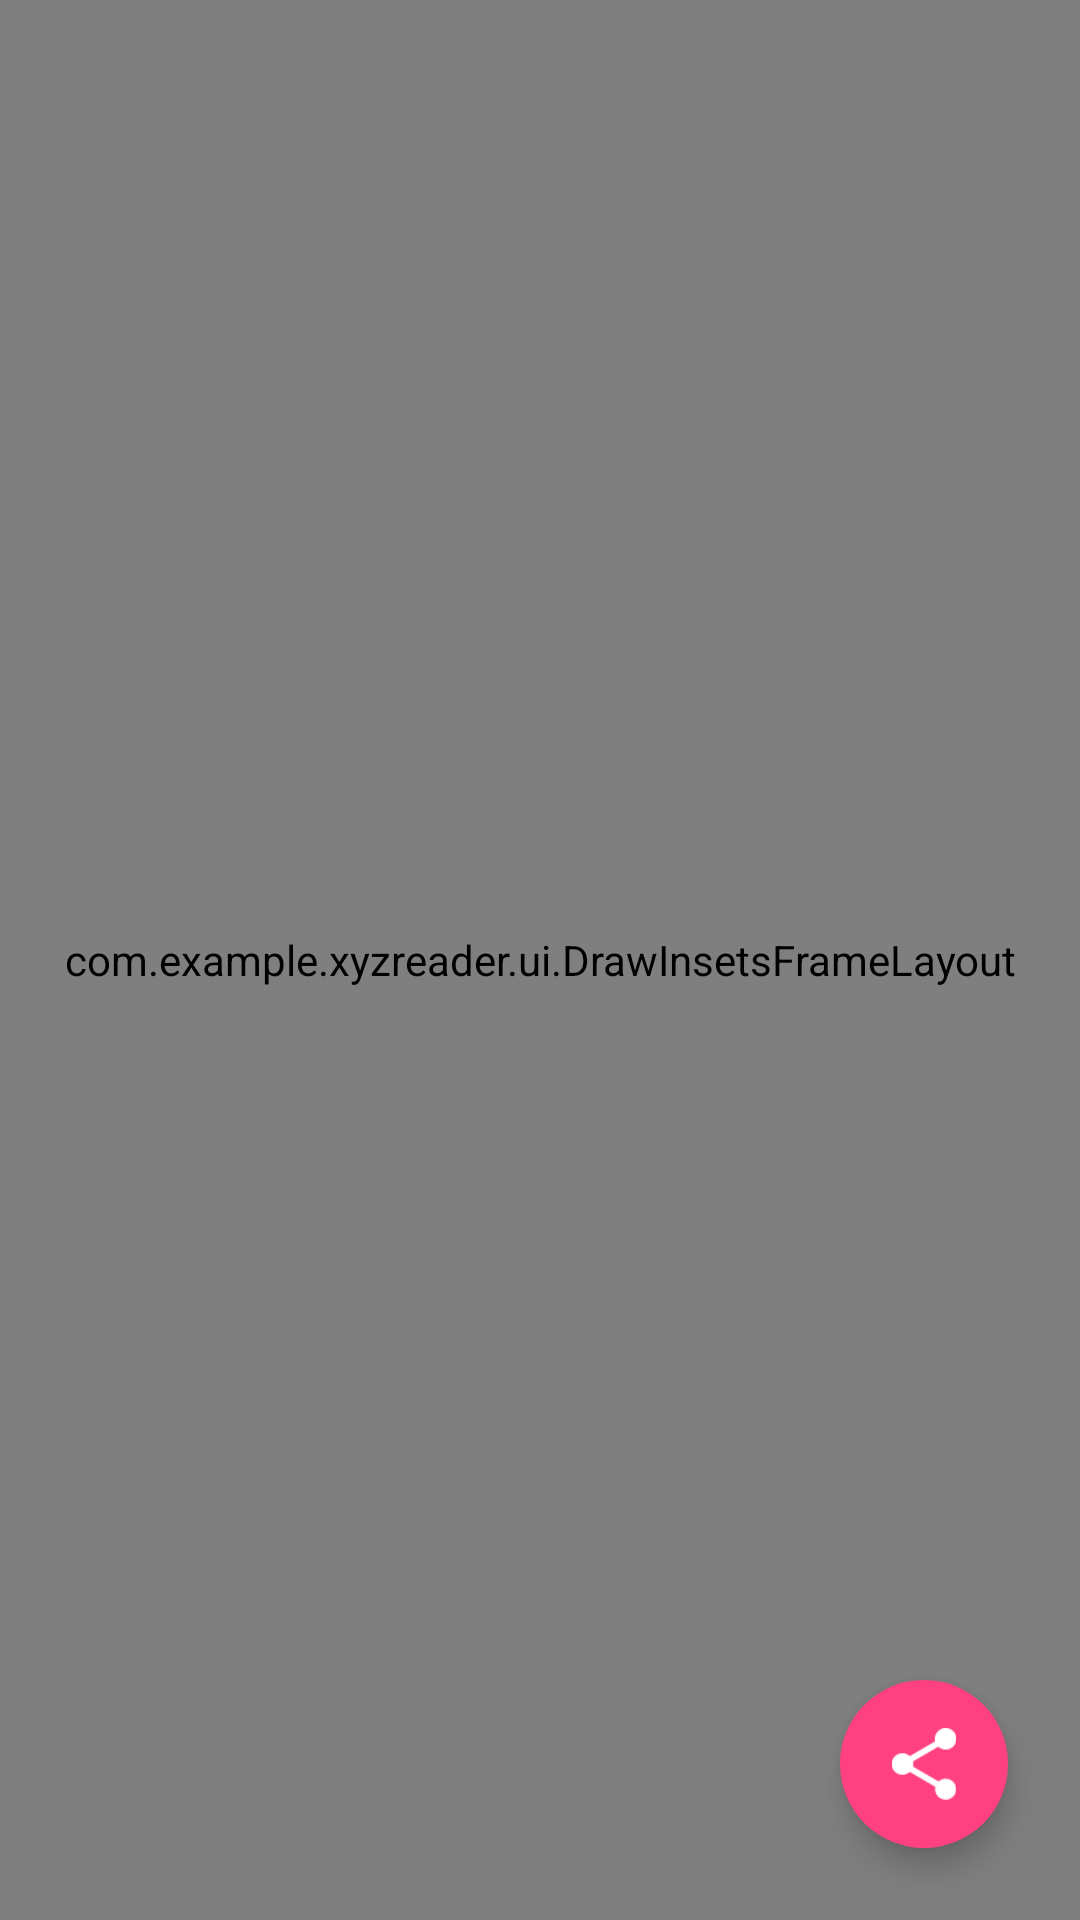

Where to tap for icons on this 1080 × 1920 app screen, as point (x, y):
Share: point (924, 1764)
